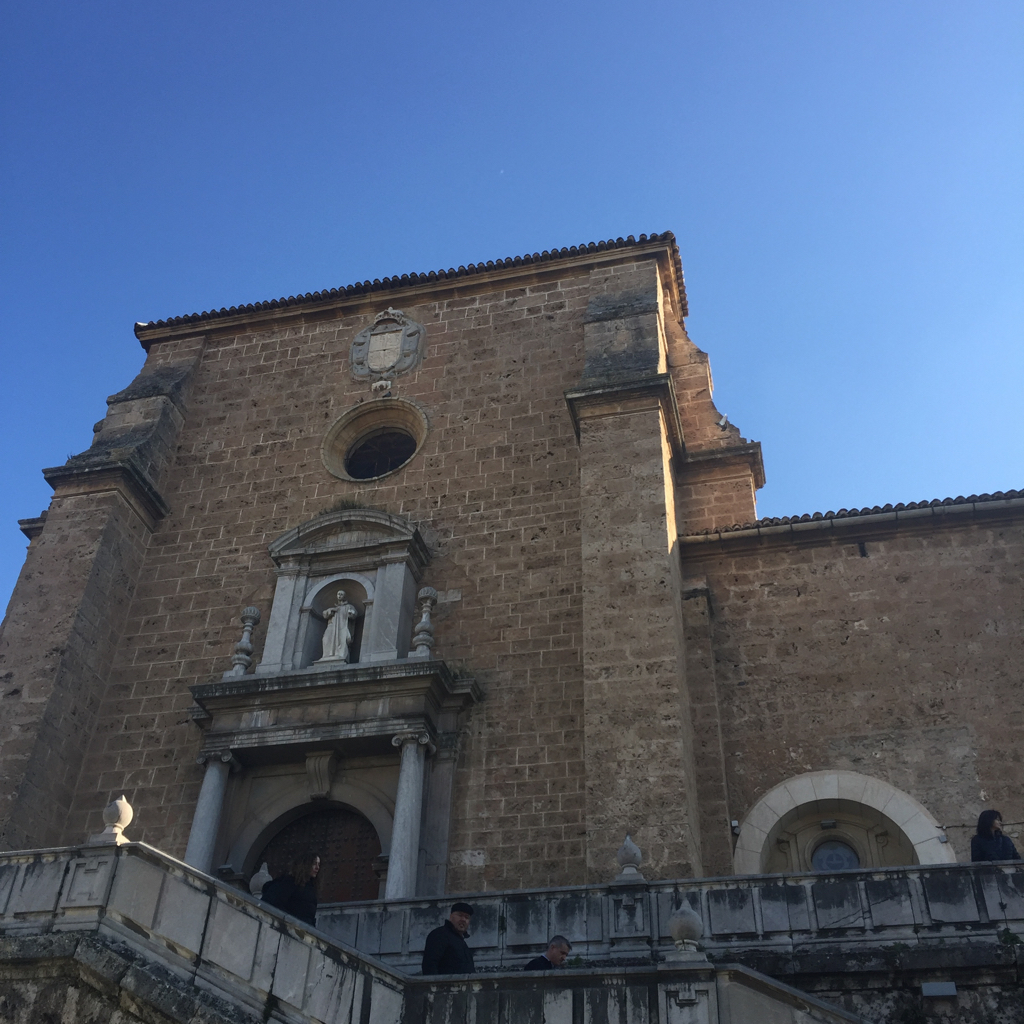arco-medio-punto: (741, 777, 927, 874), (228, 791, 389, 880)
fronton-curvo: (264, 509, 424, 560)
ojo-de-buey: (316, 395, 432, 480)
